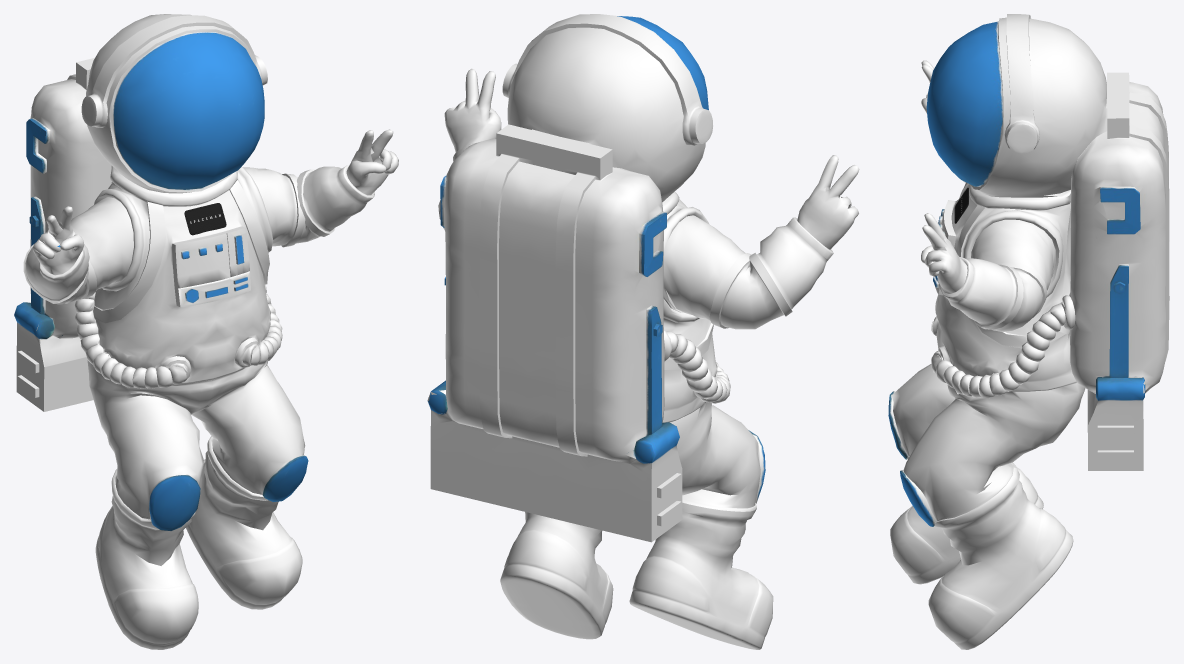
Rendered from astronaut.glb.
The picture shows the model from 3 angles, left to right: view 1: azimuth 30°, elevation 25°; view 2: azimuth 150°, elevation 25°; view 3: azimuth 270°, elevation 25°; orthographic projection. The views are drawn at different scales.
Visible parts, largest first — view 1: Astronaut Toy Character, MOON BOOTS, VISOR, POWER PACK, GLOVES, CONTROL PANEL, embroidered_patch; view 2: POWER PACK, Astronaut Toy Character, MOON BOOTS, GLOVES, VISOR; view 3: Astronaut Toy Character, POWER PACK, MOON BOOTS, VISOR, GLOVES, CONTROL PANEL.
Part boxes in pixels (bbox=[...]): Astronaut Toy Character: bbox=[23, 14, 367, 530]; MOON BOOTS: bbox=[95, 440, 302, 649]; VISOR: bbox=[113, 32, 264, 189]; POWER PACK: bbox=[14, 58, 175, 411]; GLOVES: bbox=[32, 129, 398, 281]; CONTROL PANEL: bbox=[172, 226, 250, 307]; embroidered_patch: bbox=[184, 203, 226, 235]; POWER PACK: bbox=[427, 124, 682, 542]; Astronaut Toy Character: bbox=[438, 14, 827, 511]; MOON BOOTS: bbox=[500, 502, 773, 649]; GLOVES: bbox=[444, 68, 859, 259]; VISOR: bbox=[617, 16, 708, 109]; Astronaut Toy Character: bbox=[888, 14, 1108, 526]; POWER PACK: bbox=[1069, 72, 1169, 470]; MOON BOOTS: bbox=[890, 457, 1073, 649]; VISOR: bbox=[926, 21, 1001, 186]; GLOVES: bbox=[921, 60, 973, 300]; CONTROL PANEL: bbox=[933, 200, 955, 295].
Bounding box in the file's own units: 0.0953 × 0.1463 × 0.0631.
Materials: 2 (2 with a texture image).
